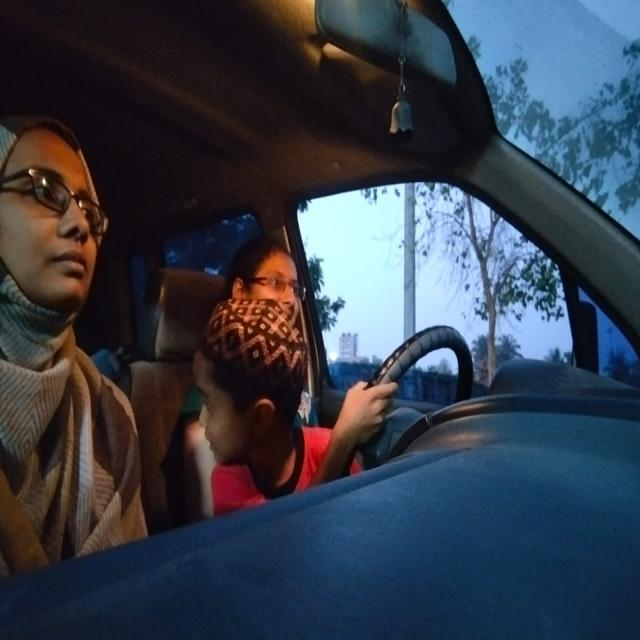child: (185, 310, 308, 482)
person: (0, 92, 118, 373), (235, 227, 330, 326)
